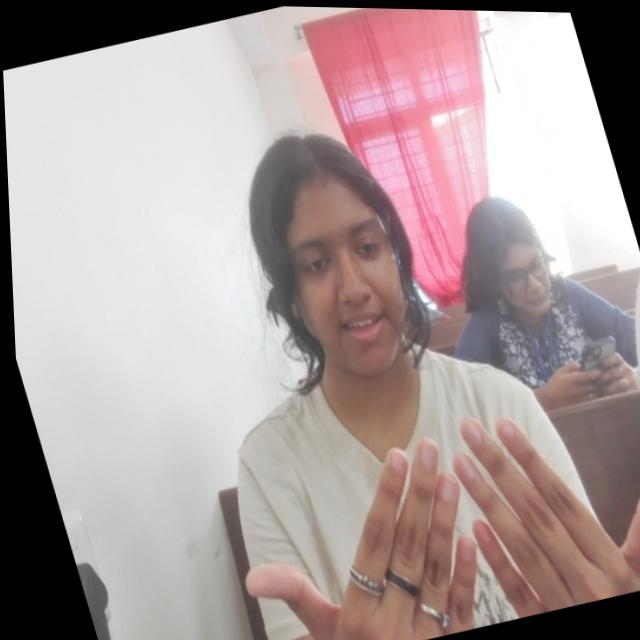thankyou: (202, 362, 640, 640)
